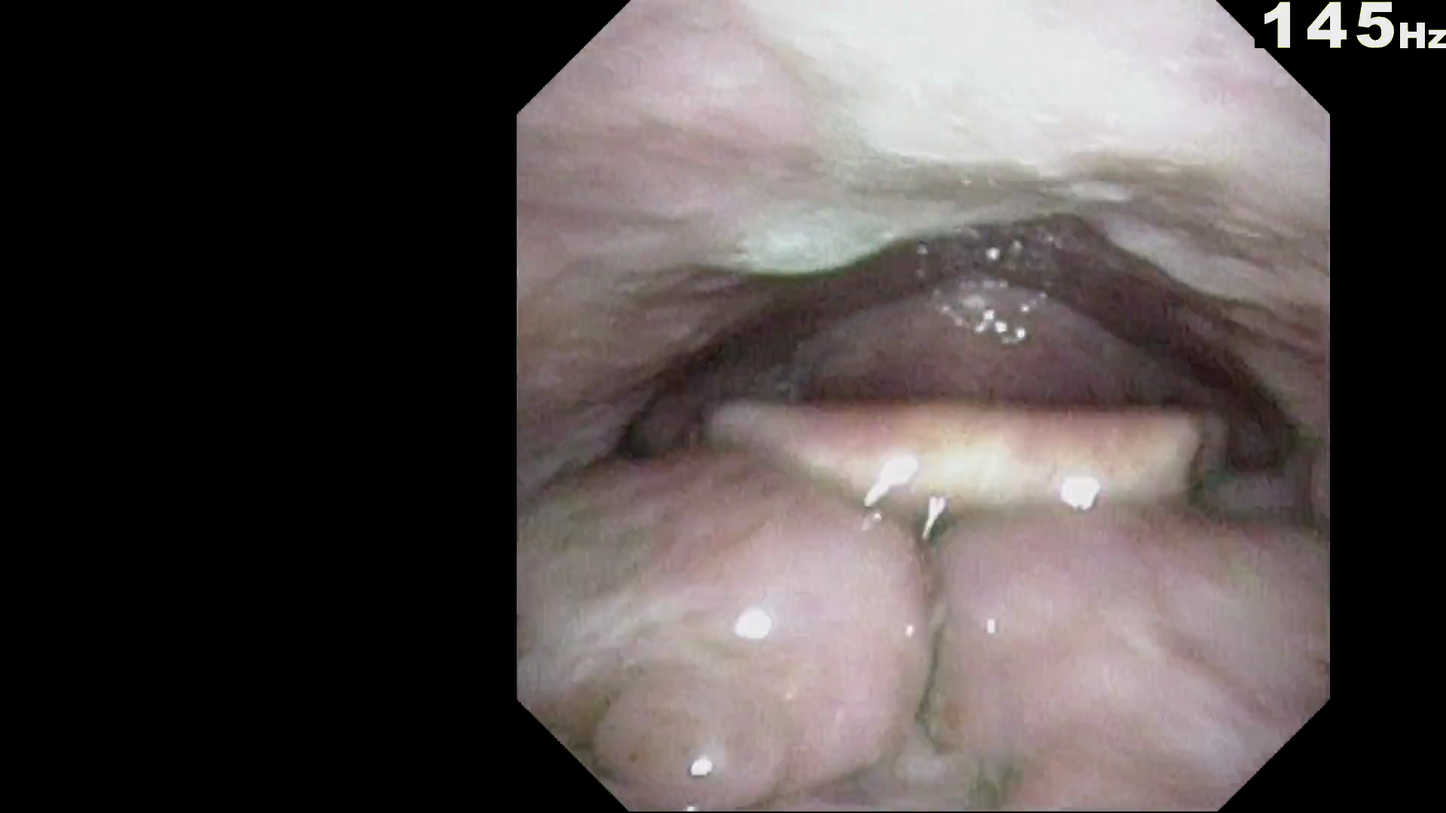epiglottis: (702, 385, 1252, 547)
